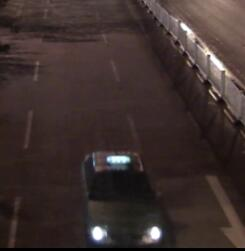car: (75, 149, 164, 249)
